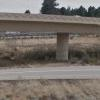Bridge: (3, 6, 96, 51)
